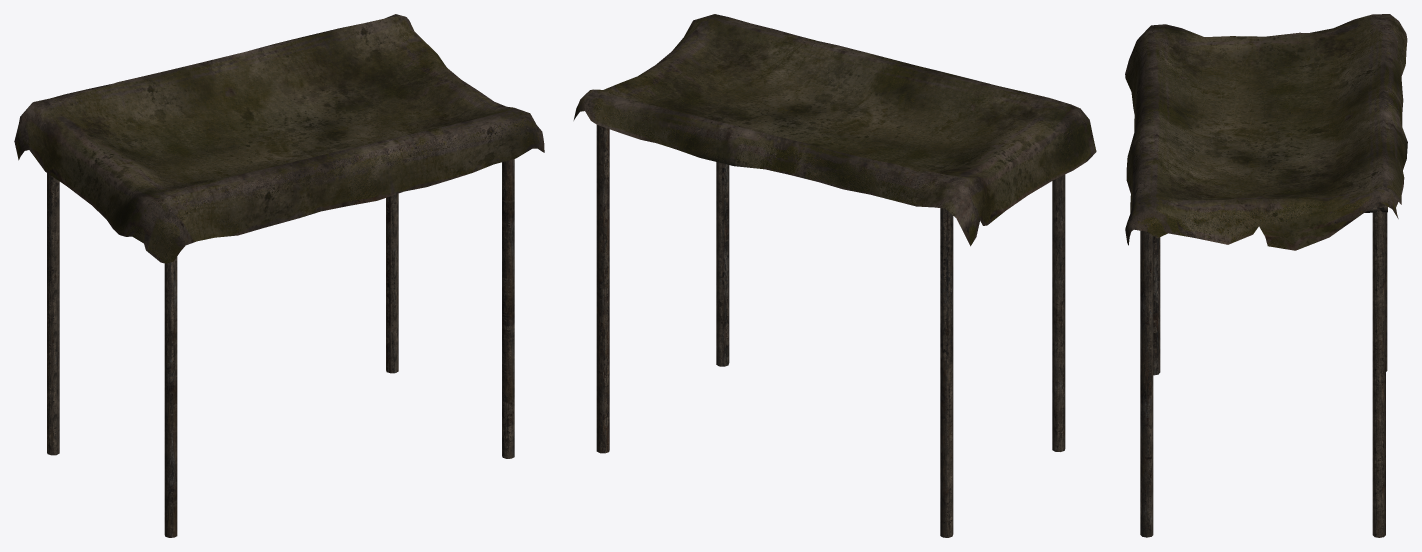
The model's file is Tent.obj.
The picture shows the model from 3 angles, left to right: view 1: azimuth 30°, elevation 25°; view 2: azimuth 150°, elevation 25°; view 3: azimuth 270°, elevation 25°; orthographic projection. The views are drawn at different scales.
Parts seen in each view (by area): view 1: Cloth, Carcass; view 2: Cloth, Carcass; view 3: Cloth, Carcass.
Boxes of the visible parts, <box> form: Cloth: <box>14,14,544,263</box>; Carcass: <box>47,159,514,537</box>; Cloth: <box>573,14,1096,246</box>; Carcass: <box>596,125,1065,537</box>; Cloth: <box>1125,14,1407,250</box>; Carcass: <box>1140,202,1387,537</box>.
Bounding box in the file's own units: 281 × 234 × 171.
Materials: 1 (1 with a texture image).
